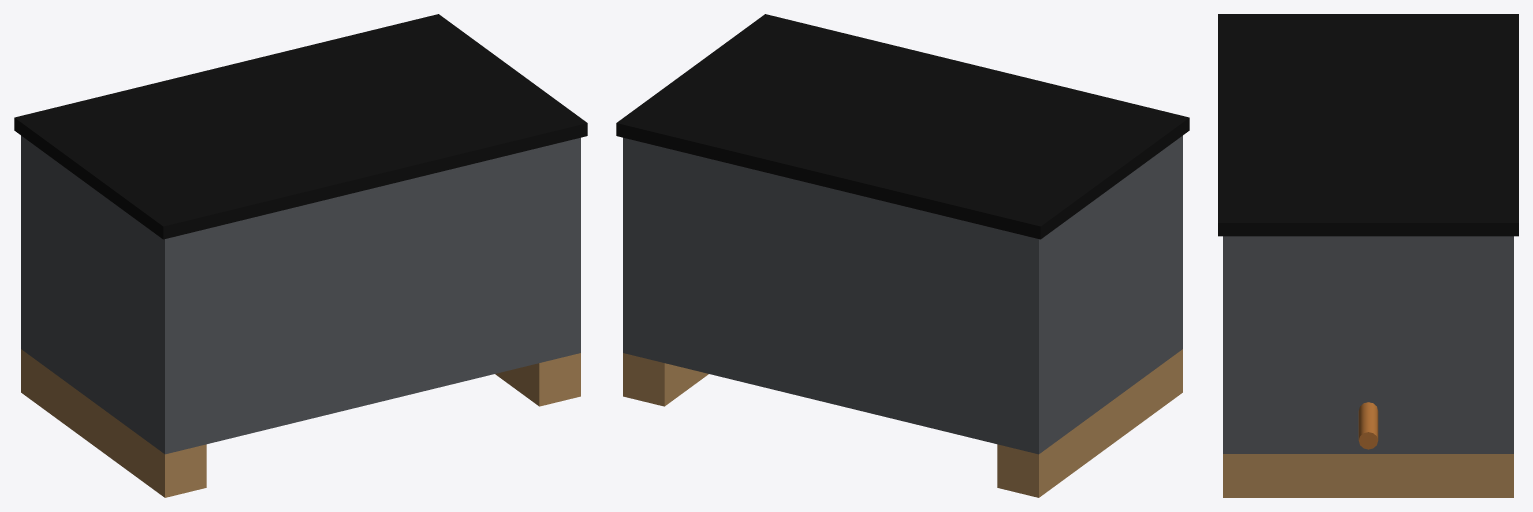
File: services.plant.tank_cold_230.glb
3 renders of one model, left to right at view 1: azimuth 30°, elevation 25°; view 2: azimuth 150°, elevation 25°; view 3: azimuth 270°, elevation 25°, orthographic.
Parts seen in each view (by area): view 1: main__plastic_grey, main__plastic_black, main__softwood; view 2: main__plastic_grey, main__plastic_black, main__softwood; view 3: main__plastic_black, main__plastic_grey, main__softwood, main__copper.
Part boxes in pixels (bbox=[...]): main__plastic_grey: bbox=[21, 135, 580, 454]; main__plastic_black: bbox=[14, 14, 587, 239]; main__softwood: bbox=[21, 349, 580, 497]; main__plastic_grey: bbox=[623, 135, 1182, 454]; main__plastic_black: bbox=[616, 14, 1189, 239]; main__softwood: bbox=[623, 349, 1182, 497]; main__plastic_black: bbox=[1218, 14, 1518, 236]; main__plastic_grey: bbox=[1223, 236, 1513, 453]; main__softwood: bbox=[1223, 454, 1513, 497]; main__copper: bbox=[1358, 402, 1378, 449].
Bounding box in the file's own units: 1.16 × 0.63 × 0.62.
